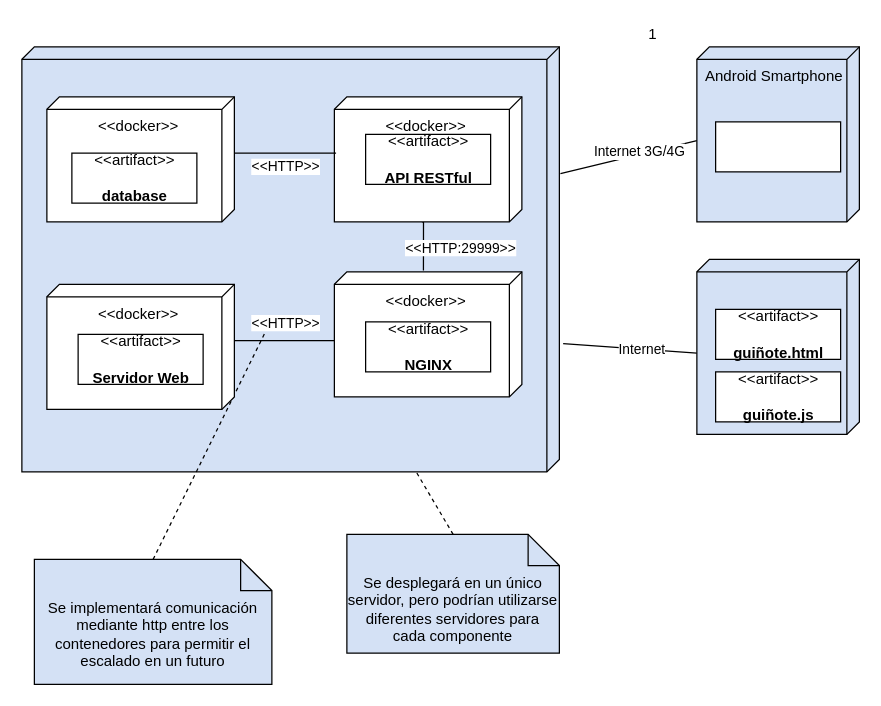
The diagram is 881 pixels wide and 706 high, and some of its shapes have lost their labels. Here are the shapes that lost their labels. From the top down, the box of each, then its label:
(714, 121, 841, 172): <<artifact>> guiñote.apk
(21, 46, 559, 472): Servidor Ubuntu 20.04
(696, 258, 859, 434): Navegador Web
